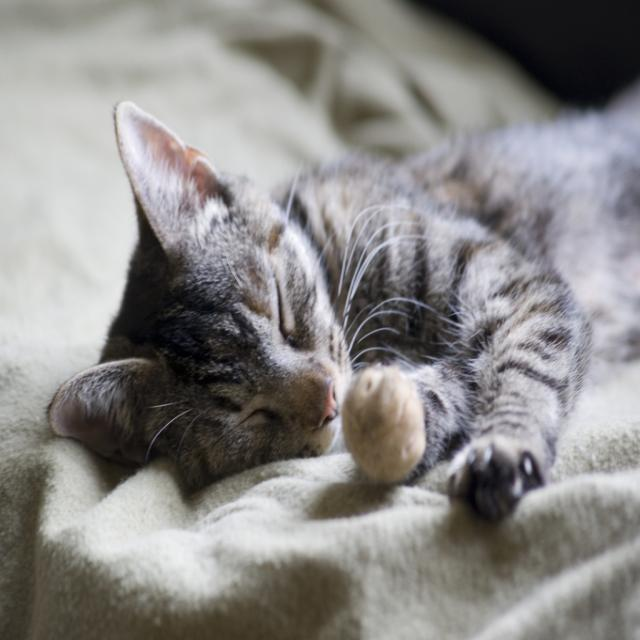Cat: (37, 73, 638, 520)
